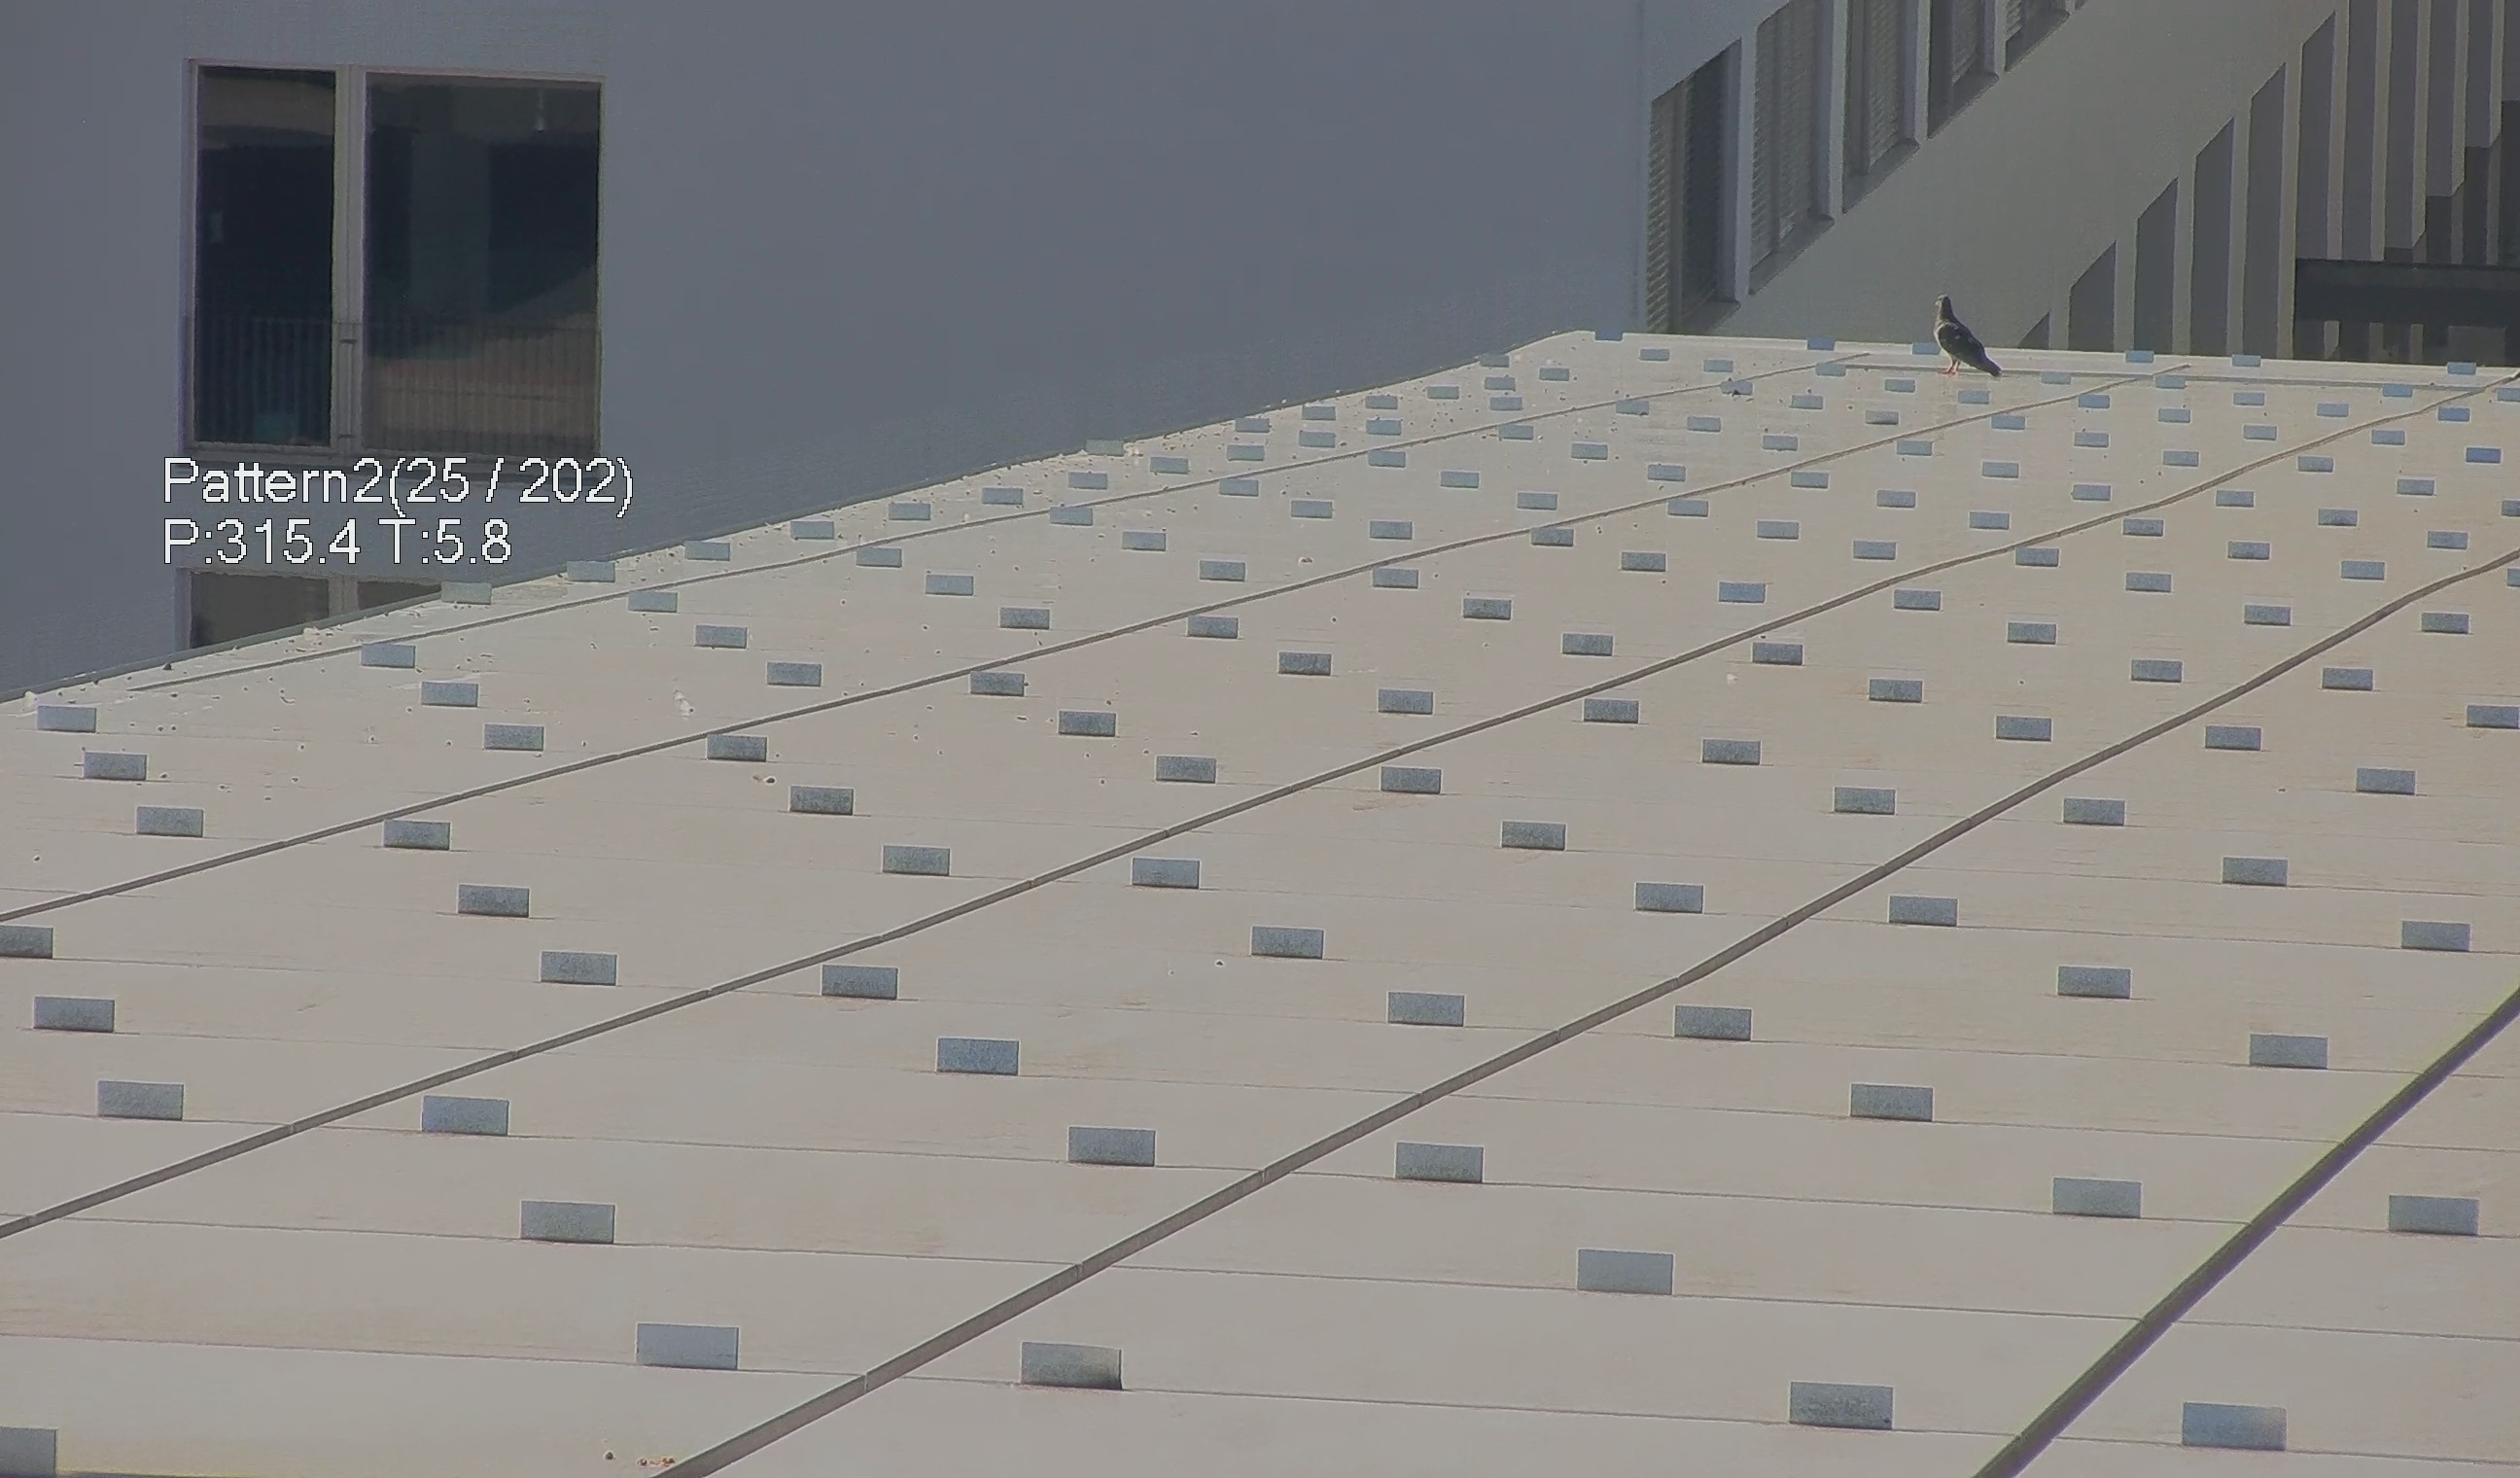Pigeon: (1929, 285, 2008, 387)
